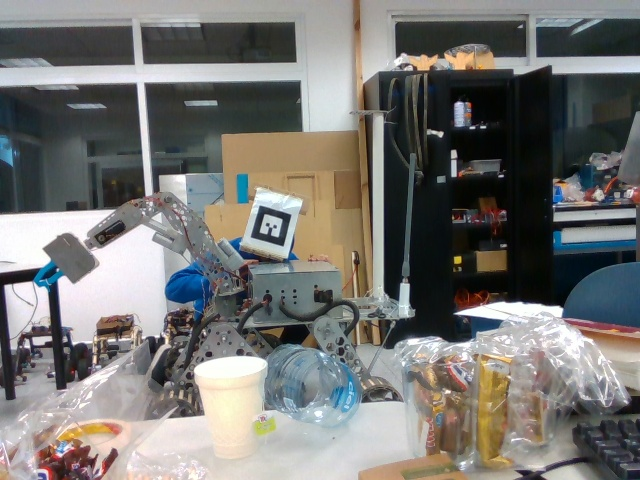ar1: (250, 199, 292, 248)
